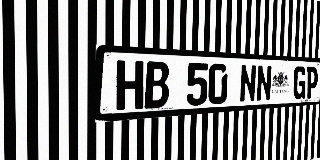0: (208, 63, 228, 105)
5: (187, 63, 208, 106)
B: (144, 61, 169, 109)
G: (293, 66, 306, 99)
H: (116, 60, 144, 110)
N: (239, 64, 257, 103), (256, 65, 272, 102)
P: (305, 67, 318, 99)
